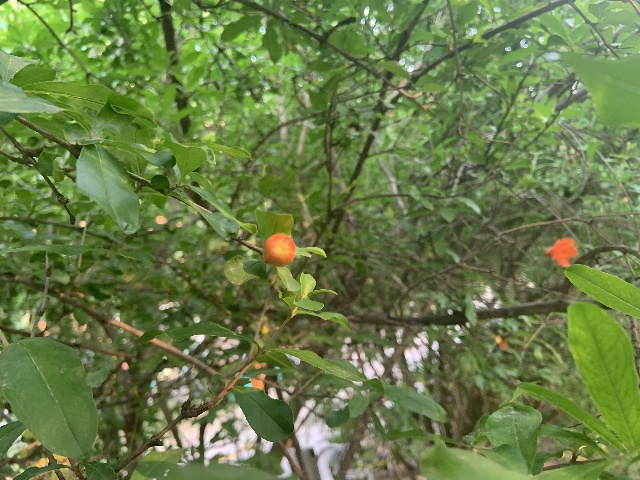bud: (262, 232, 296, 266)
flower: (544, 237, 577, 267)
